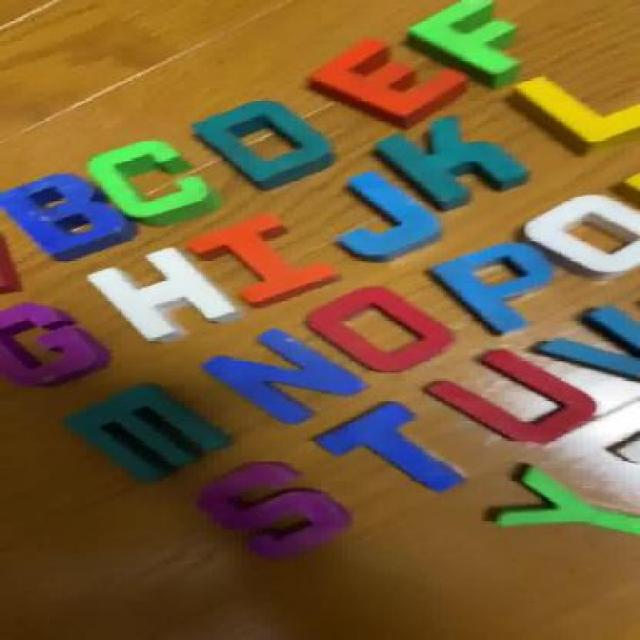B: (4, 178, 134, 256)
C: (90, 140, 221, 218)
D: (191, 94, 337, 184)
E: (308, 40, 466, 125)
F: (398, 1, 525, 81)
G: (0, 301, 115, 392)
H: (85, 250, 241, 344)
I: (195, 218, 338, 304)
J: (322, 173, 440, 264)
K: (380, 115, 531, 208)
L: (507, 78, 639, 154)
M: (67, 391, 235, 487)
N: (220, 330, 375, 428)
O: (320, 285, 457, 373)
P: (447, 245, 558, 332)
S: (209, 464, 365, 565)
T: (318, 400, 478, 500)
U: (431, 353, 600, 450)
Y: (493, 461, 639, 547)
